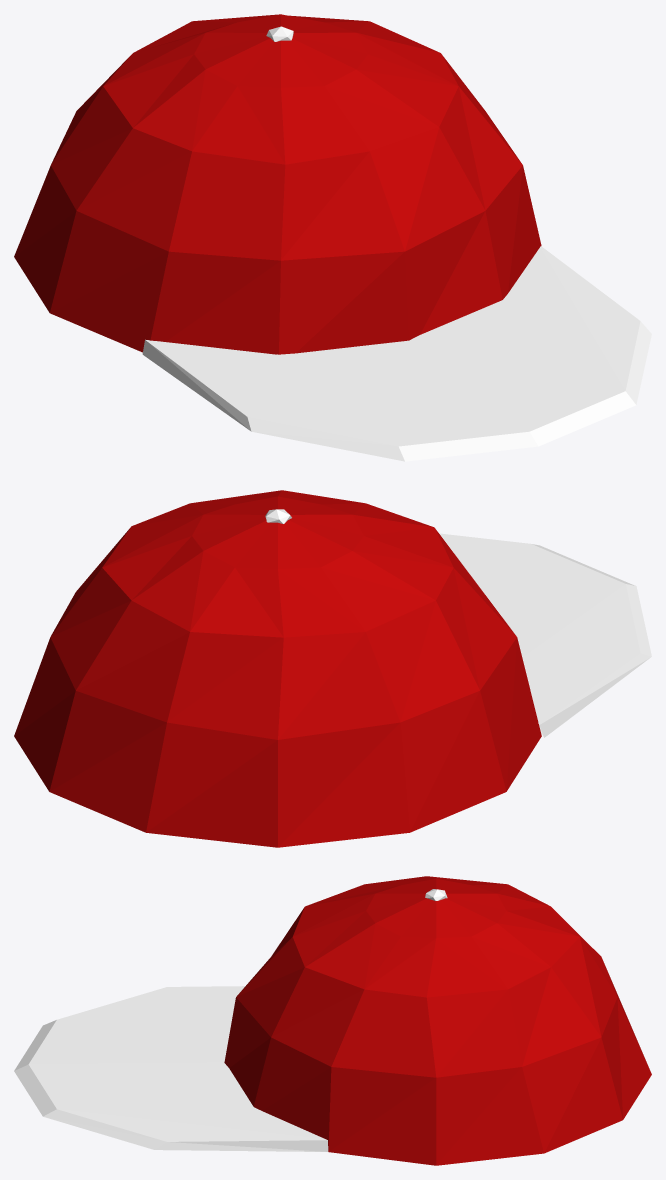
Rendered from Baseball_cap_red.fbx.
3 renders of one model, top to bottom at view 1: azimuth 30°, elevation 25°; view 2: azimuth 150°, elevation 25°; view 3: azimuth 270°, elevation 25°, orthographic. The views are drawn at different scales.
Parts seen in each view (by area): view 1: Baseball_cap_red; view 2: Baseball_cap_red; view 3: Baseball_cap_red.
Boxes of the visible parts, box(x1,y1,x2,y2) form: Baseball_cap_red: box(14, 14, 651, 461); Baseball_cap_red: box(14, 490, 651, 847); Baseball_cap_red: box(14, 876, 651, 1165).
Size of the model in its own units: 16.97 by 8.06 by 25.1.
